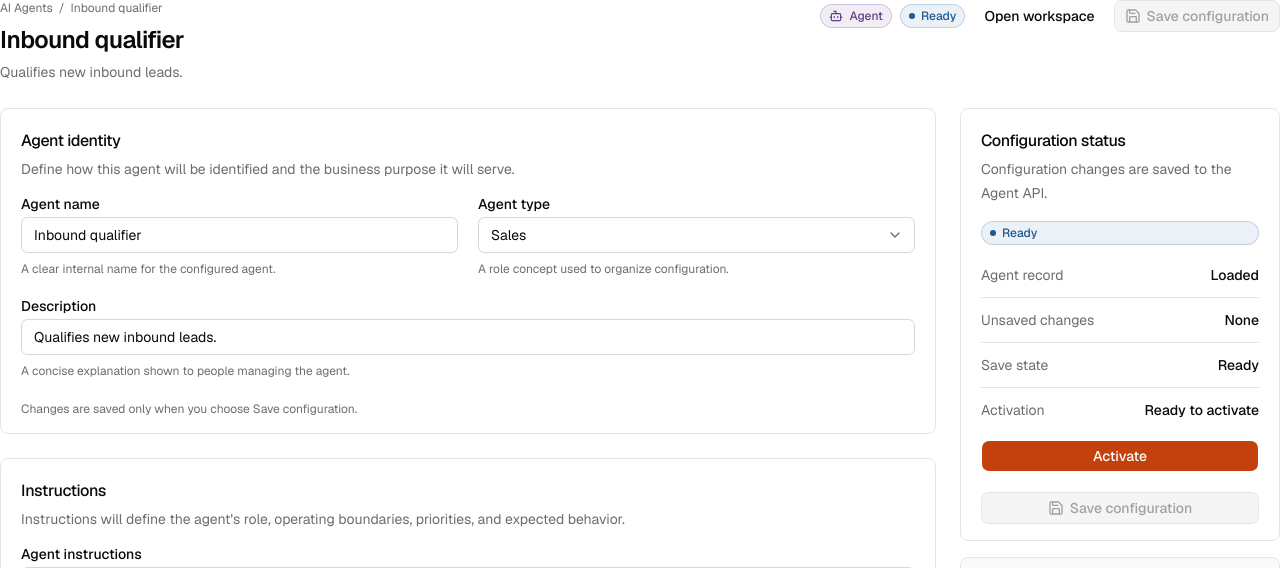
Test: Agent Detail page › lets OWNER confirm activate and updates the status from the API
This screenshot has width=1280, height=568.
Click the button "Activate".
click(1120, 456)  # box [981,440,1259,472]
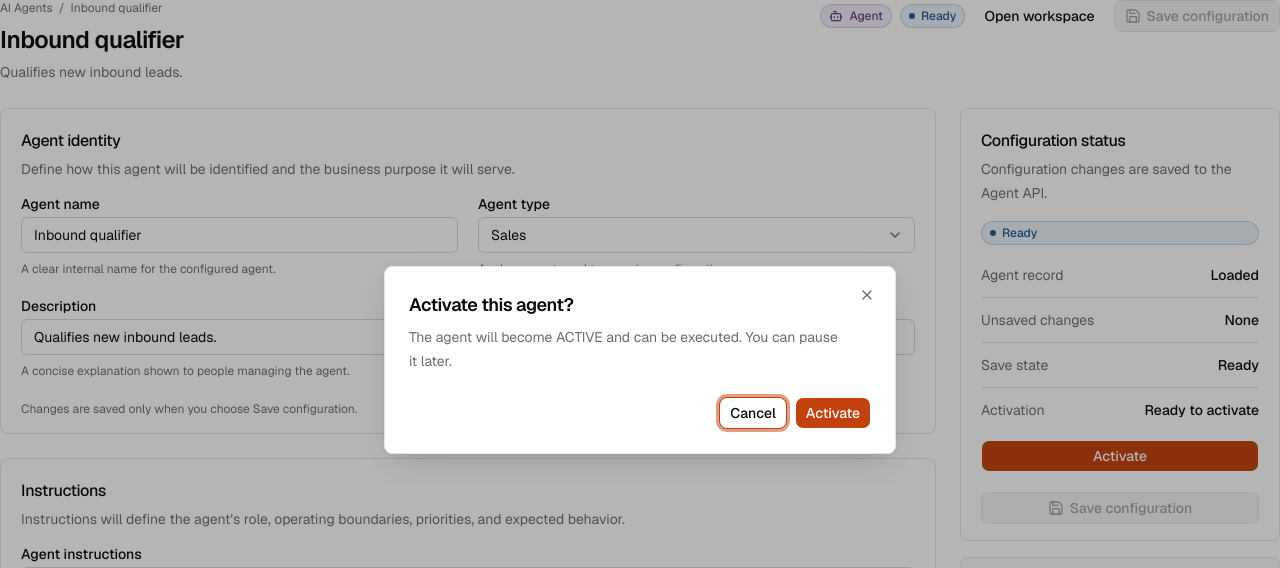
Now the heading "Activate this agent?" is shown, box [409,293,573,316]
Click the button "Activate".
click(833, 413)  # box [795,397,871,429]
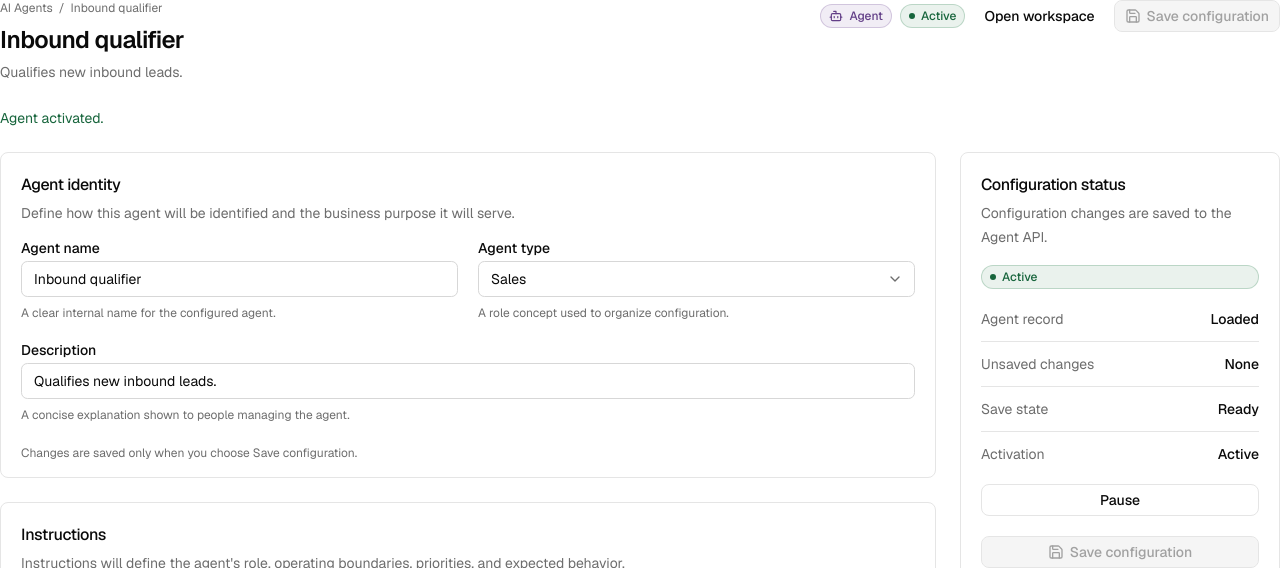
Now the button "Pause" is shown, box [981,484,1259,516]
Now the message reads "Agent activated.", box [0,109,103,127]
Now the text "Active" is shown, box [900,4,966,28]
